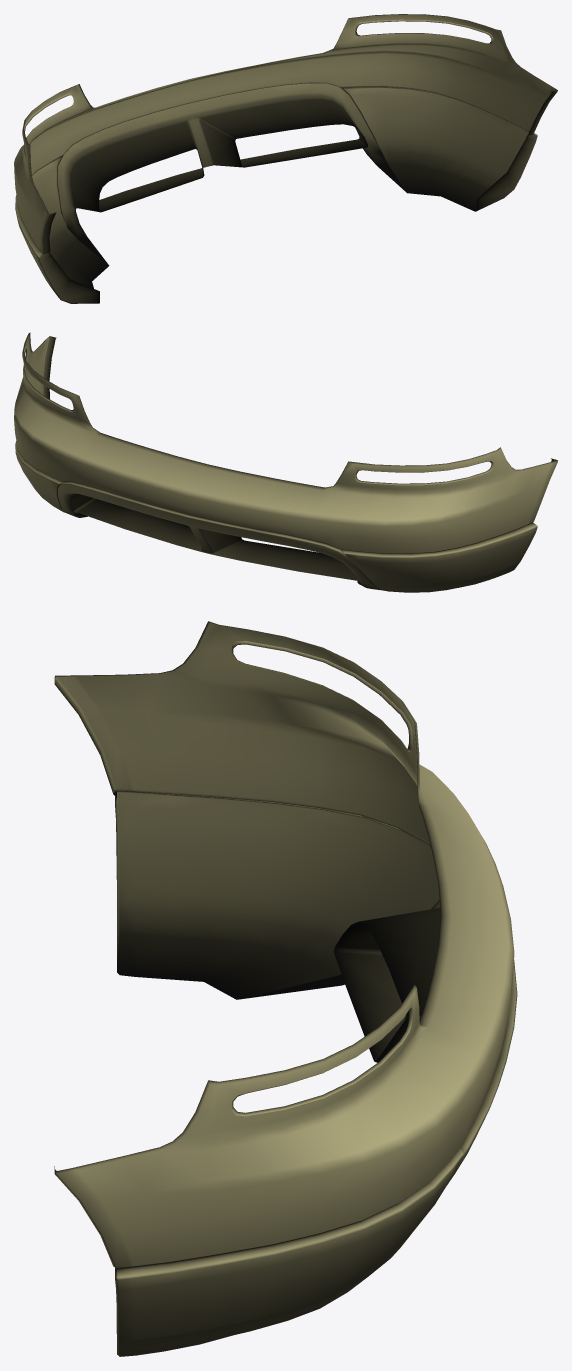
The model's file is Viper_RB_02_Duco.fbx.
3 renders of one model, top to bottom at view 1: azimuth 30°, elevation 25°; view 2: azimuth 150°, elevation 25°; view 3: azimuth 270°, elevation 25°, orthographic. The views are drawn at different scales.
Parts seen in each view (by area): view 1: Viper_RB_02_Duco; view 2: Viper_RB_02_Duco; view 3: Viper_RB_02_Duco.
Part boxes in pixels (x1,y1,x2,y2): Viper_RB_02_Duco: [14, 14, 557, 303]; Viper_RB_02_Duco: [14, 332, 557, 592]; Viper_RB_02_Duco: [54, 621, 517, 1356].
Bounding box in the file's own units: 191 × 55.08 × 75.03.
